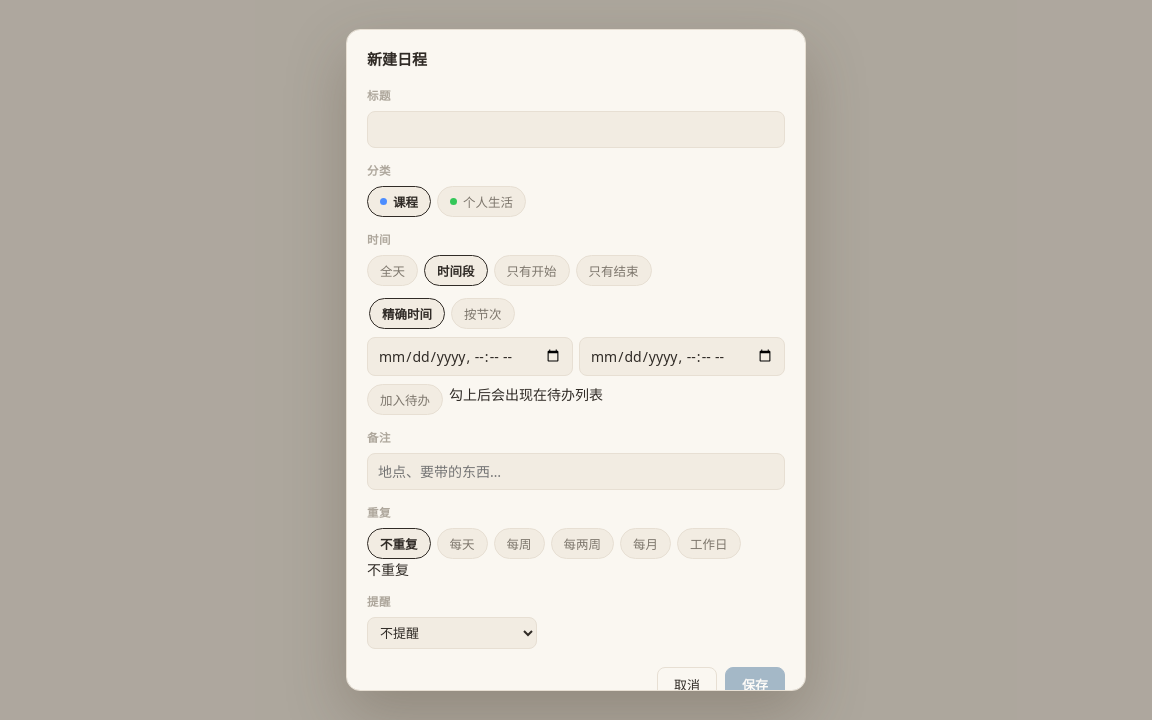
Test: ScheduleForm · 校验提示（人工验收反馈） › 缺开始时间时提示先选时间
Step 1. Type "高数" into the field labelled "标题" → (576, 129), box [367,111,785,148]
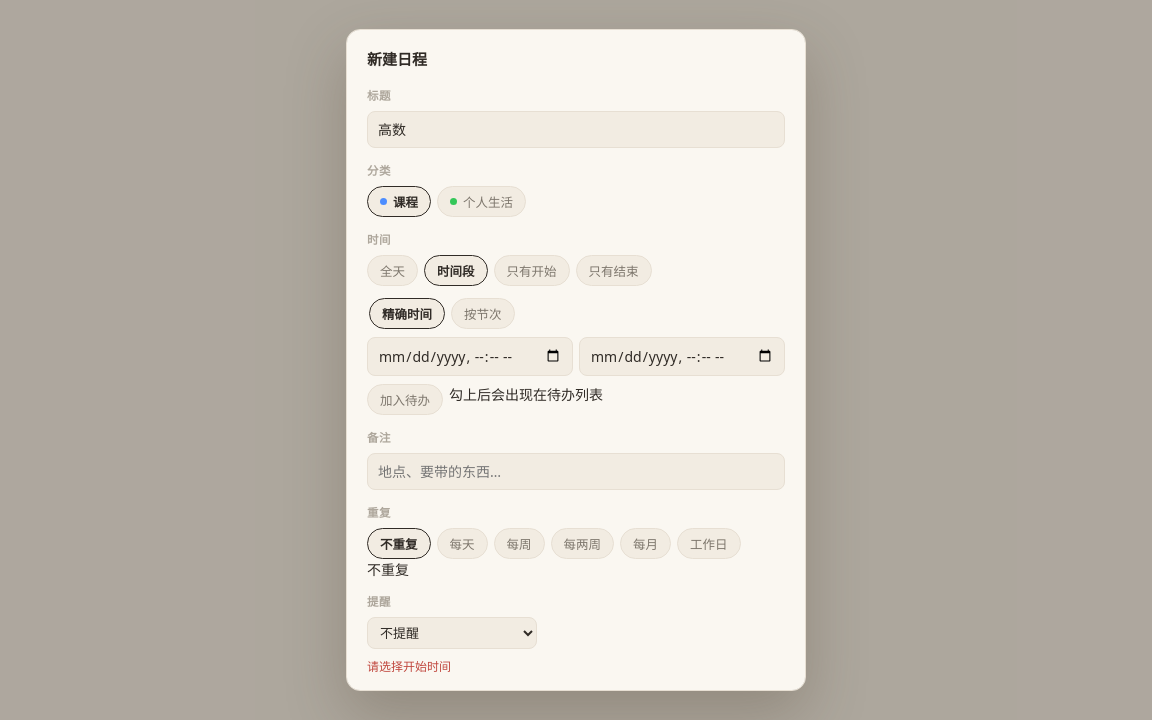
Now the message reads "请选择开始时间", box [367,658,451,675]
